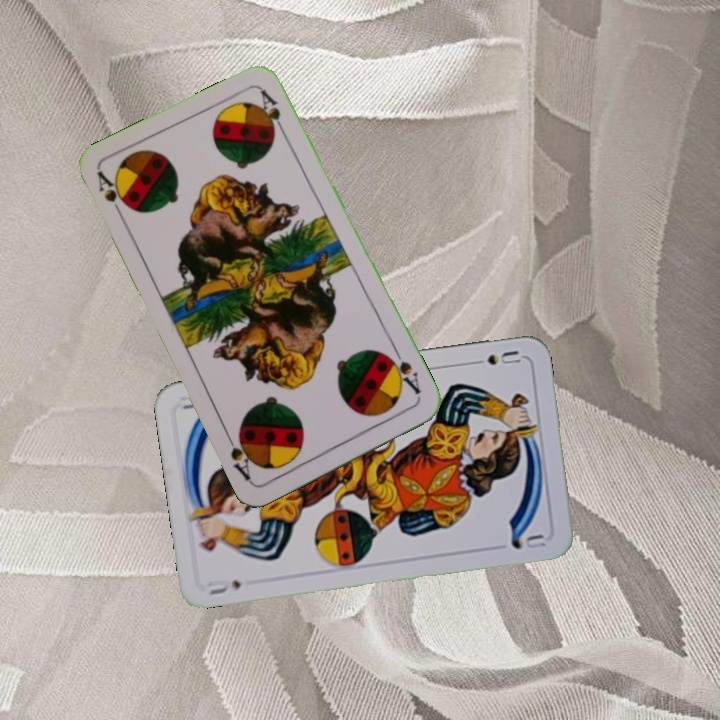SA: (382, 345, 423, 401), (93, 167, 134, 223)
SU: (465, 346, 523, 369), (203, 575, 244, 598)
